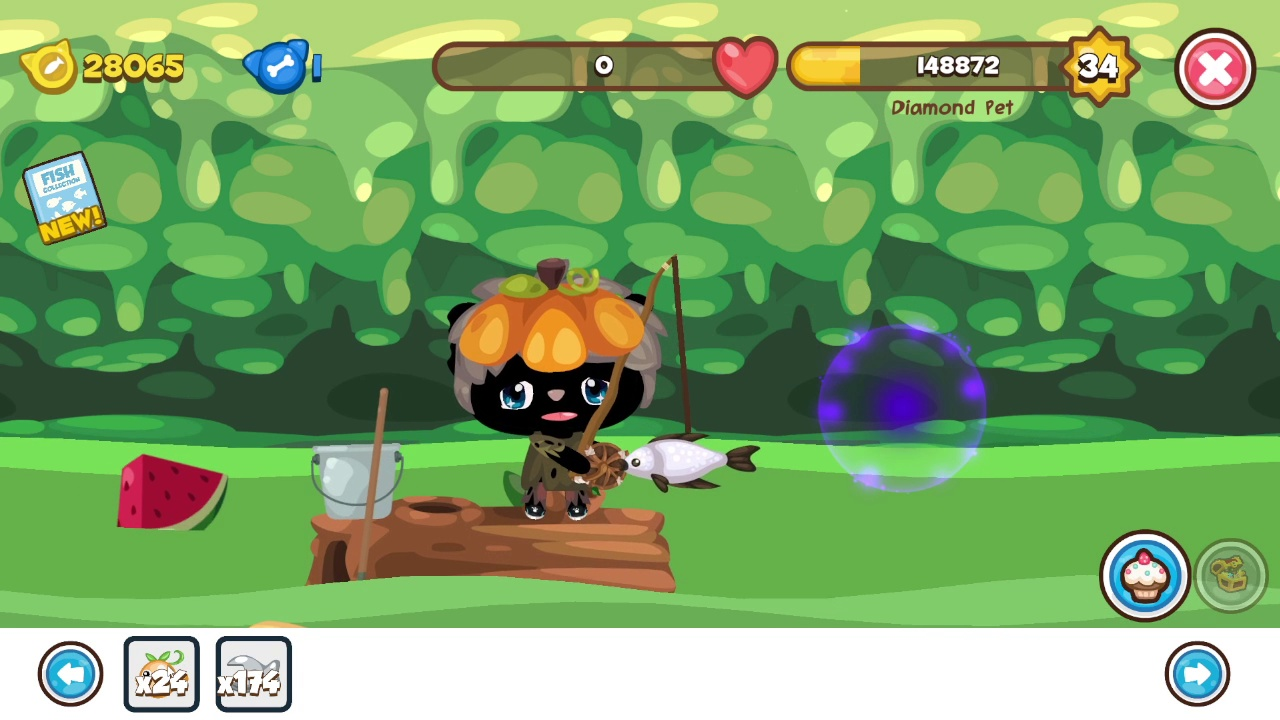point: (815, 322, 989, 494)
